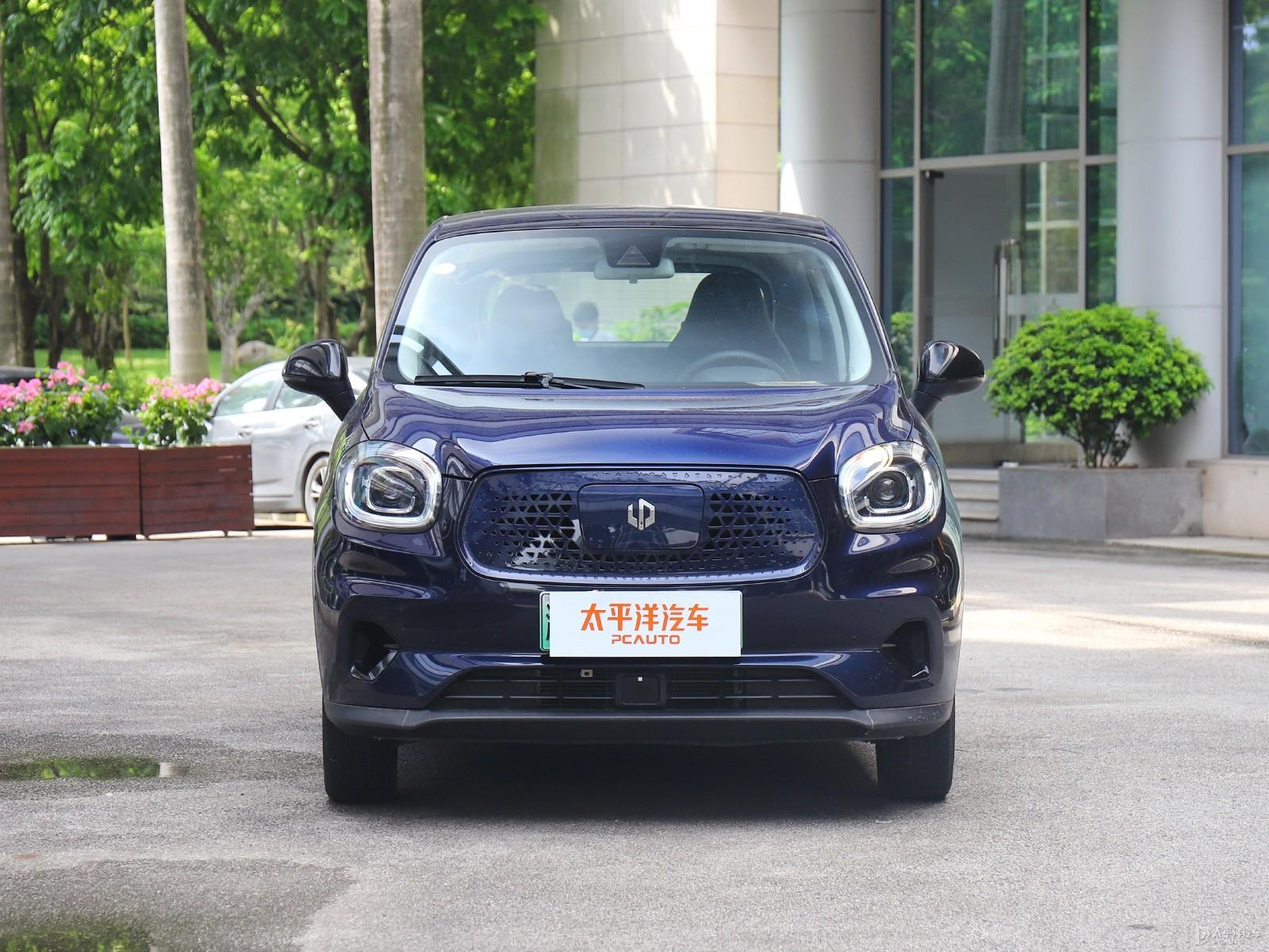LEAPMOTOR: (626, 497, 654, 532)
